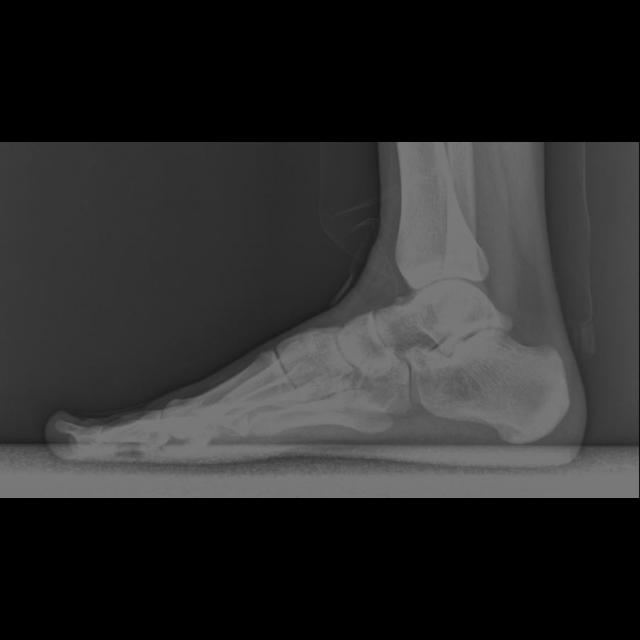a: (405, 328, 570, 444)
b: (338, 312, 397, 377)
c: (162, 352, 293, 439)
